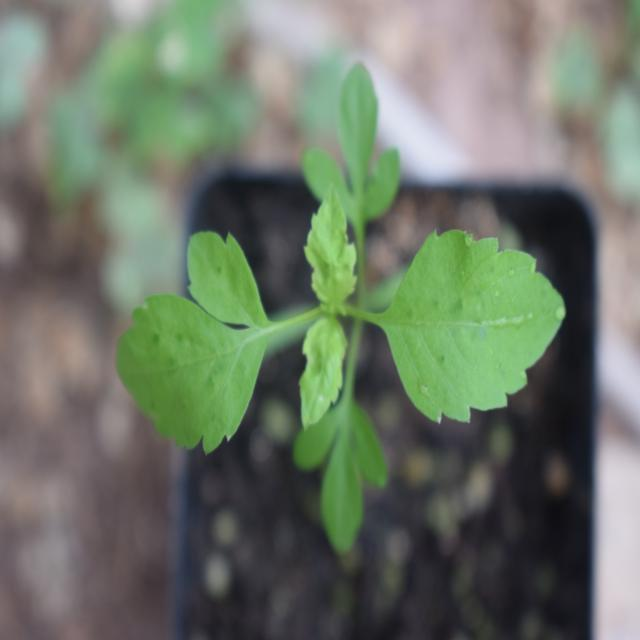Bidens pilosa: (114, 57, 566, 534)
